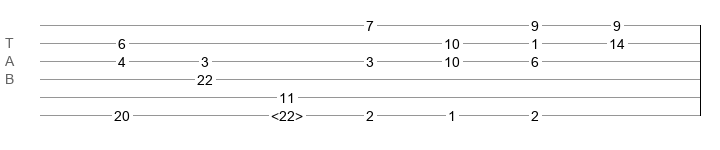1: (448, 108, 456, 118), (531, 36, 539, 46)
10: (444, 36, 460, 46), (444, 54, 460, 64)
11: (279, 90, 295, 100)
14: (609, 36, 625, 46)
2: (366, 108, 374, 118), (531, 108, 539, 118)
20: (114, 108, 130, 118)
22: (197, 72, 213, 82)
3: (201, 54, 209, 64), (366, 54, 374, 64)
4: (118, 54, 126, 64)
6: (118, 36, 126, 46), (531, 54, 539, 64)
7: (366, 18, 374, 28)
9: (531, 18, 539, 28), (613, 18, 621, 28)
harmonic: (271, 108, 303, 118)
